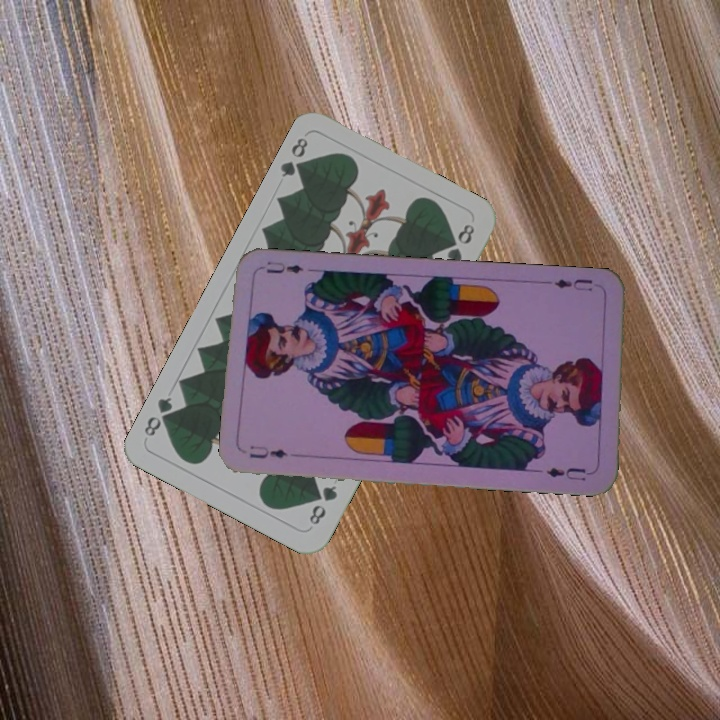EU: (245, 441, 290, 461), (550, 275, 595, 294)
G8: (276, 133, 312, 180), (305, 481, 340, 528)
